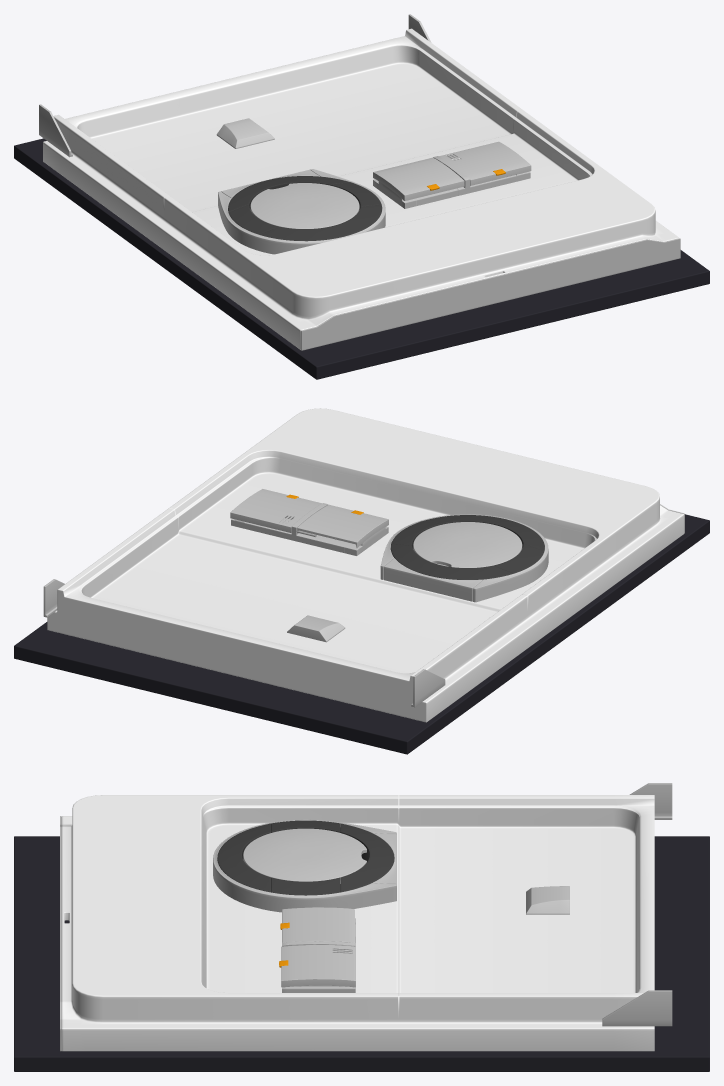
The model's file is SM_Dishwasher_Front.obj.
3 views of the same model, one above another, from view 1: azimuth 30°, elevation 25°; view 2: azimuth 150°, elevation 25°; view 3: azimuth 270°, elevation 25° (orthographic). The views are drawn at different scales.
Visible parts, largest first — view 1: SM_Dishwasher_Front; view 2: SM_Dishwasher_Front; view 3: SM_Dishwasher_Front.
Boxes of the visible parts, bbox=[...] form: SM_Dishwasher_Front: bbox=[14, 14, 709, 379]; SM_Dishwasher_Front: bbox=[14, 408, 709, 754]; SM_Dishwasher_Front: bbox=[14, 783, 709, 1071].
Size of the model in its own units: 0.5969 by 0.0922 by 0.7949.
